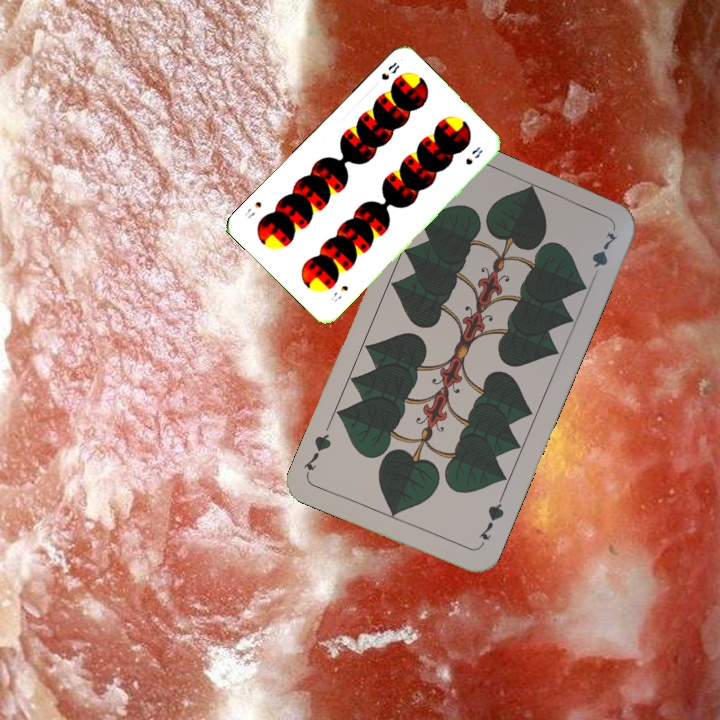G7: (475, 493, 507, 550)
S8: (377, 58, 402, 83), (327, 281, 351, 304)
